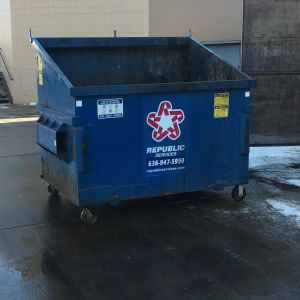Dumpster: (24, 23, 261, 229)
